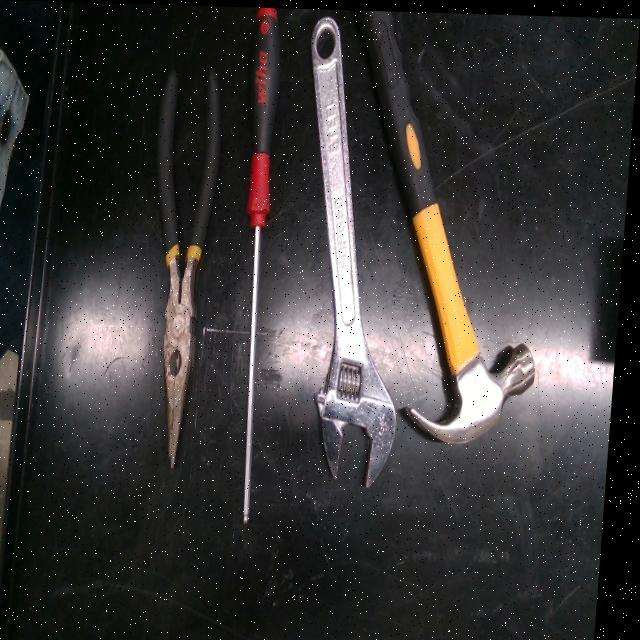Screwdriver: (251, 6, 281, 521)
